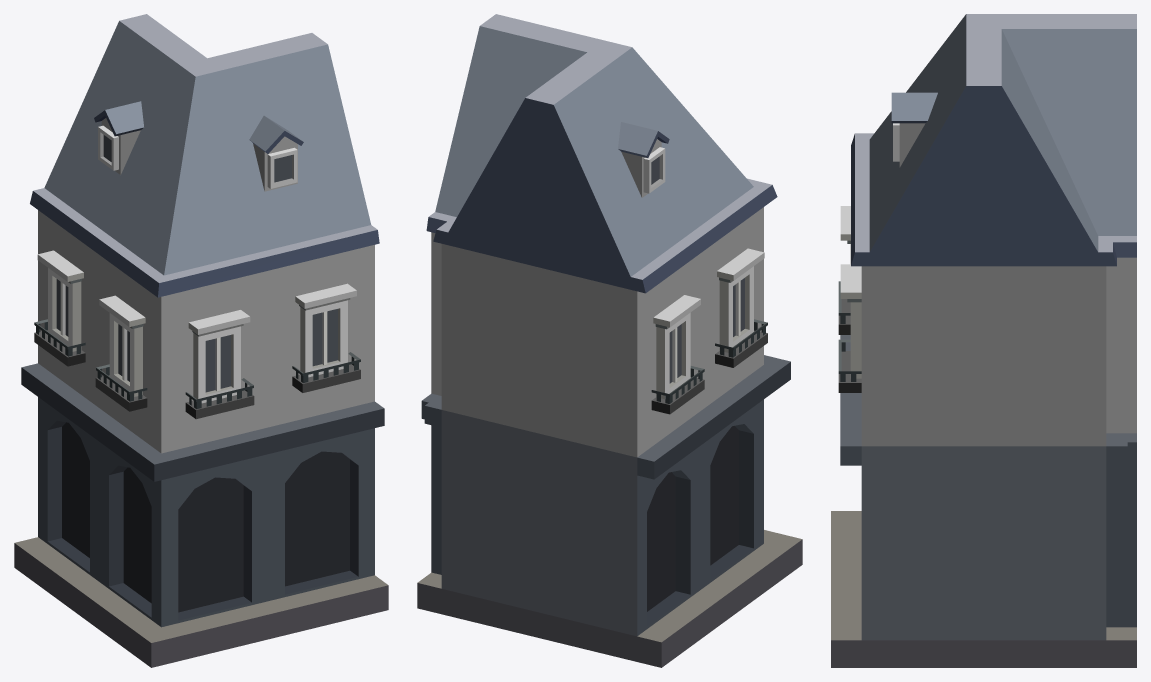
The model's file is TB_CITY_BD_N_Corner_2_A.FBX.
3 views of the same model, side by side, from view 1: azimuth 30°, elevation 25°; view 2: azimuth 150°, elevation 25°; view 3: azimuth 270°, elevation 25° (orthographic). The views are drawn at different scales.
Parts seen in each view (by area): view 1: TB_CITY_BD_N_Corner_2_A; view 2: TB_CITY_BD_N_Corner_2_A; view 3: TB_CITY_BD_N_Corner_2_A.
Boxes of the visible parts, bbox=[...] form: TB_CITY_BD_N_Corner_2_A: bbox=[14, 14, 388, 667]; TB_CITY_BD_N_Corner_2_A: bbox=[417, 14, 802, 667]; TB_CITY_BD_N_Corner_2_A: bbox=[831, 14, 1136, 667].
Bounding box in the file's own units: 7.99 × 16.78 × 7.99.
